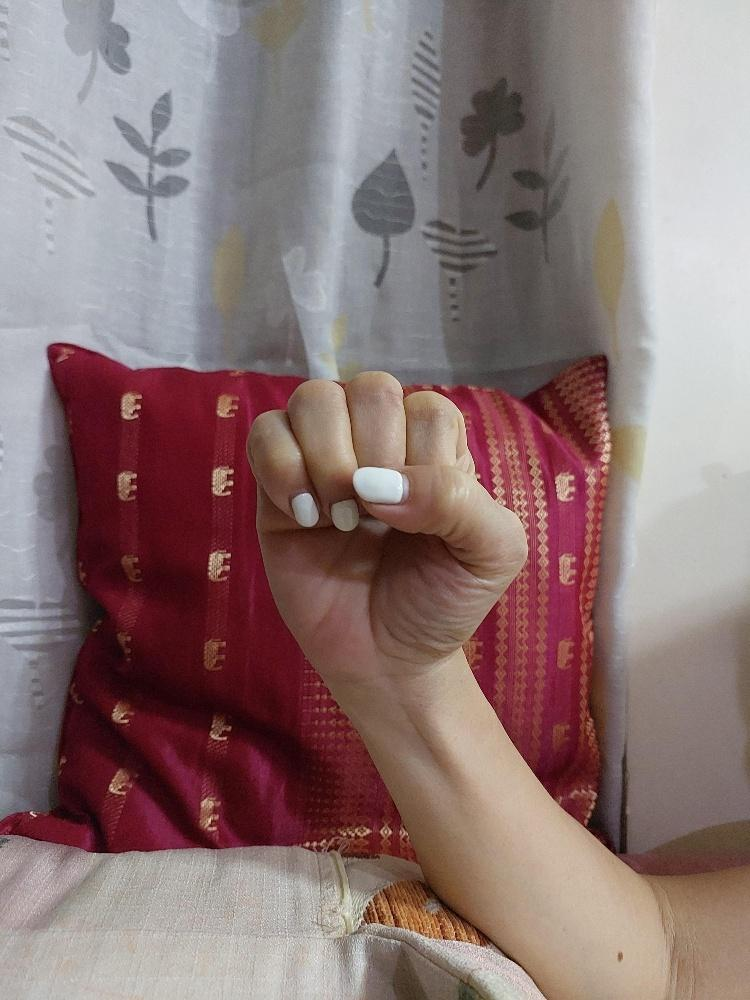s: (238, 365, 534, 668)
